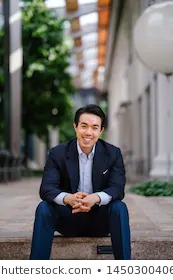F_M_suit jacket: (37, 135, 129, 207)
